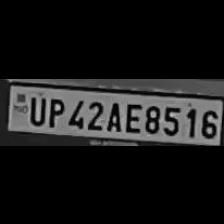1: (182, 104, 198, 136)
2: (86, 96, 104, 130)
4: (65, 94, 84, 128)
5: (160, 101, 182, 135)
6: (198, 105, 218, 138)
8: (142, 100, 160, 134)
A: (104, 97, 122, 130)
E: (122, 100, 142, 132)
P: (44, 94, 64, 126)
U: (25, 92, 45, 124)
